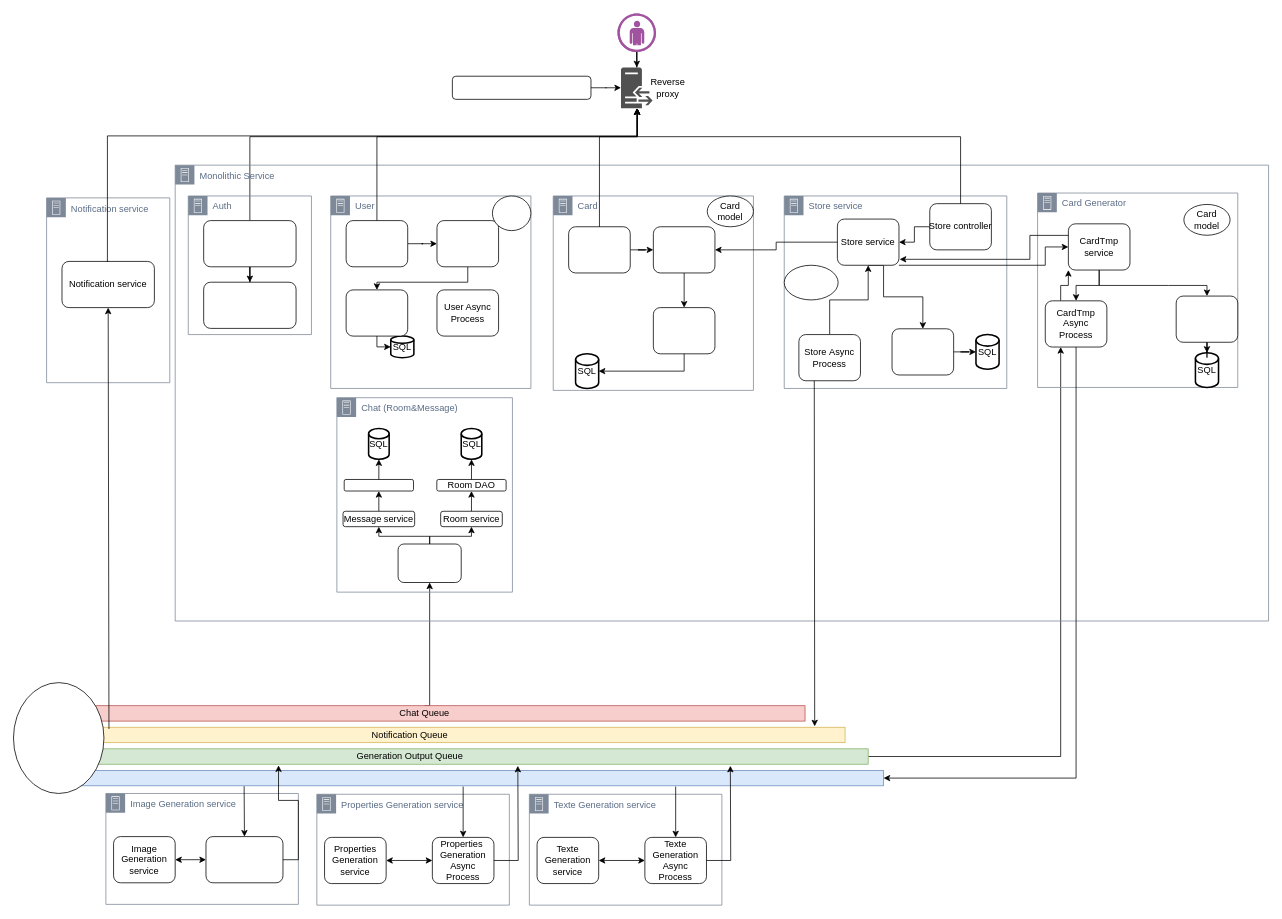
The diagram is 1282 pixels wide and 919 high, and some of its shapes have lost their labels. The centre of each missing label's shape, as x and y in pixels:
Auth controller: (x=249, y=243)
Auth service: (x=249, y=304)
Card controller: (x=599, y=249)
Card DAO: (x=684, y=330)
Card service: (x=684, y=249)
CardTmp DAO: (x=1206, y=318)
Chat Async Process: (x=429, y=563)
ESB: (x=58, y=737)
Generation Input Queues (One for each generation type): (x=465, y=778)
Image Generation Async Process: (x=244, y=859)
Message DAO: (x=378, y=485)
Static content (front): (x=521, y=87)
Store DAO: (x=922, y=351)
Store model: (x=810, y=282)
User controller: (x=376, y=243)
User DAO: (x=376, y=312)
User model: (x=511, y=213)
User service: (x=467, y=243)
